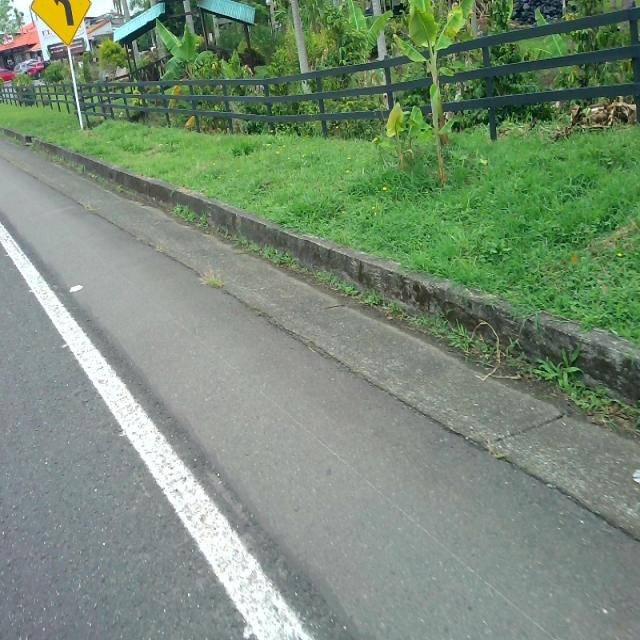DITCH: (1, 128, 639, 638), (1, 152, 638, 638), (1, 164, 639, 638)
